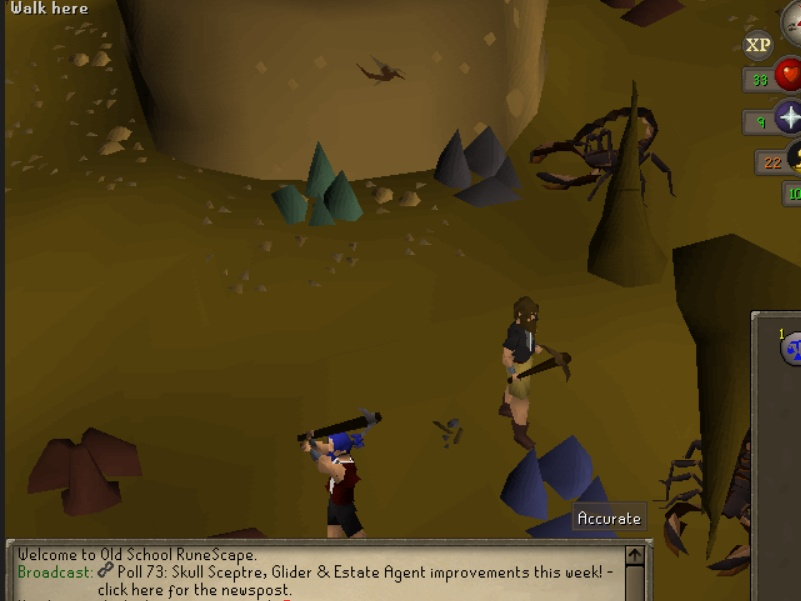adamant: (257, 134, 373, 231)
iron: (27, 418, 153, 523)
mithril: (493, 432, 626, 540)
